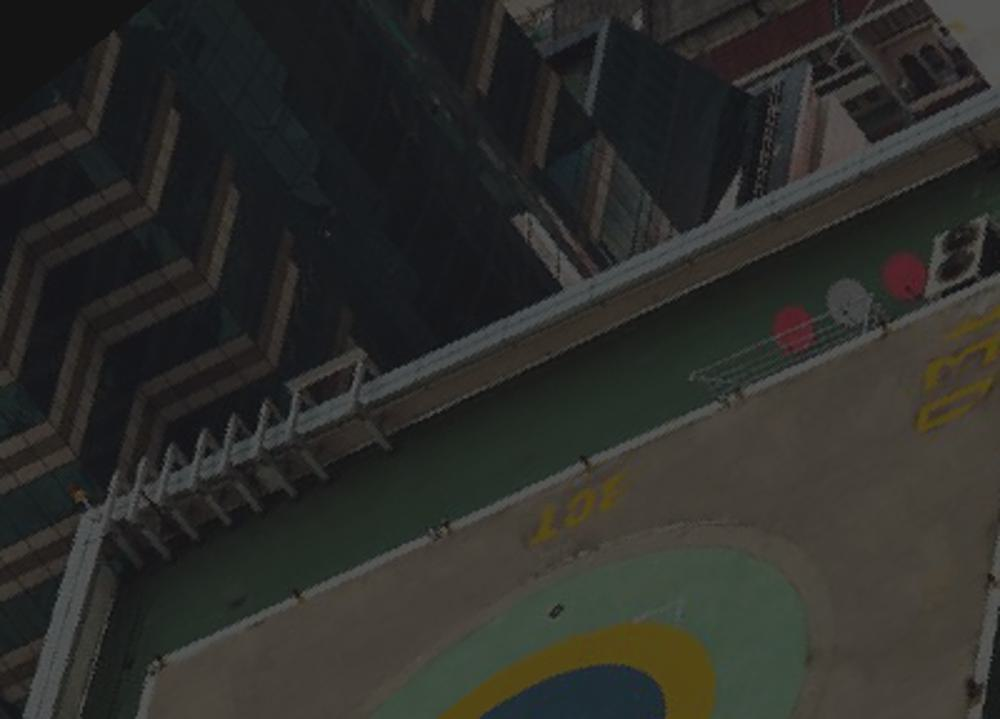Apron: (378, 616, 730, 719)
